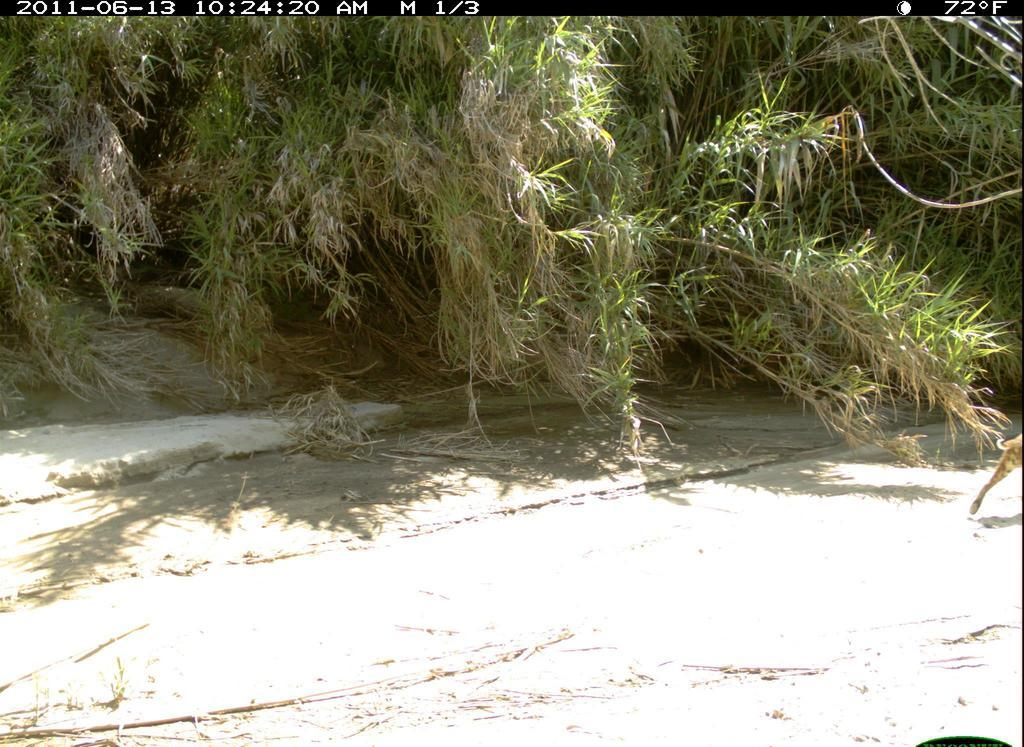bobcat: (968, 420, 1022, 525)
